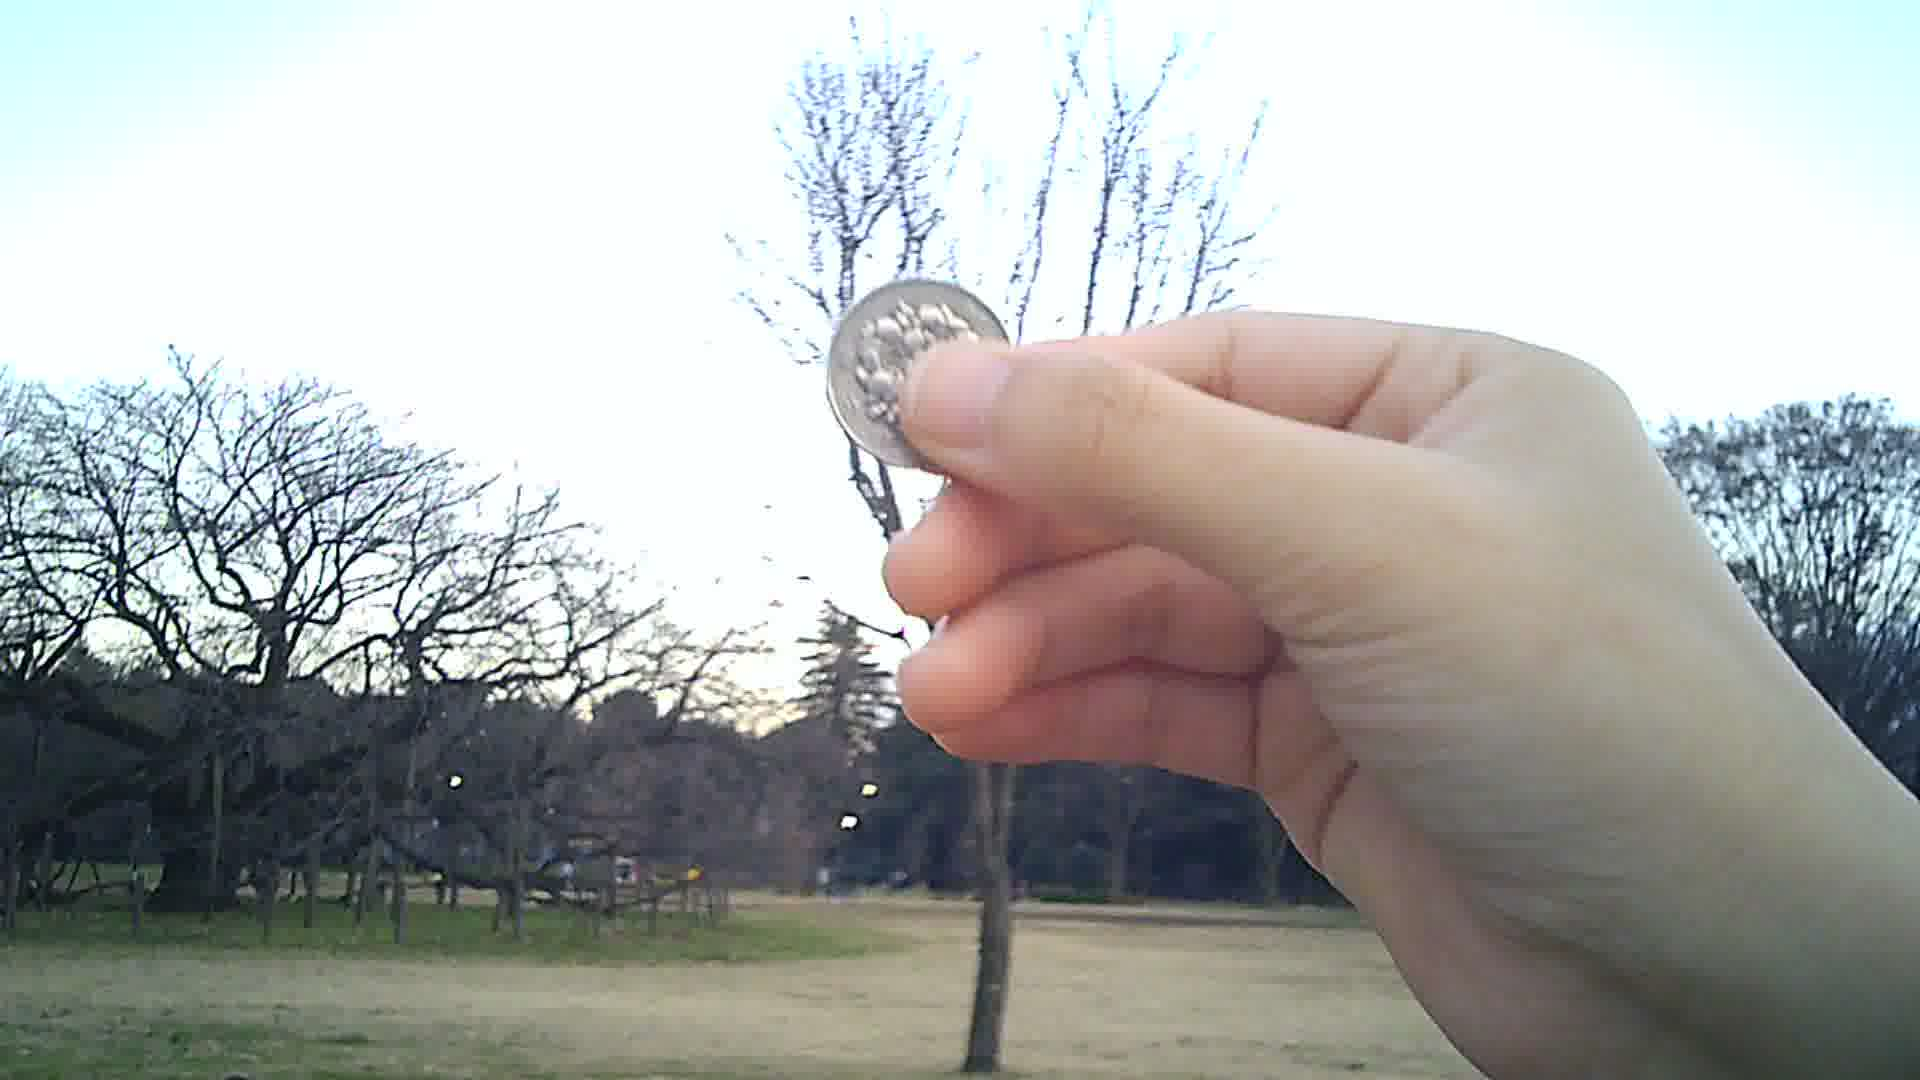100 Yen: (824, 280, 1018, 465)
